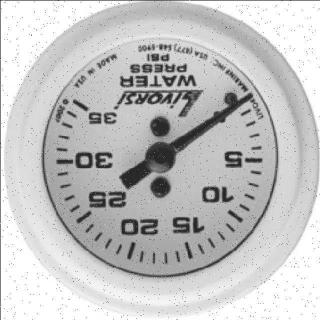gauge: (0, 0, 320, 320), (144, 141, 176, 174), (226, 82, 260, 112), (66, 92, 95, 121), (239, 88, 258, 106)
